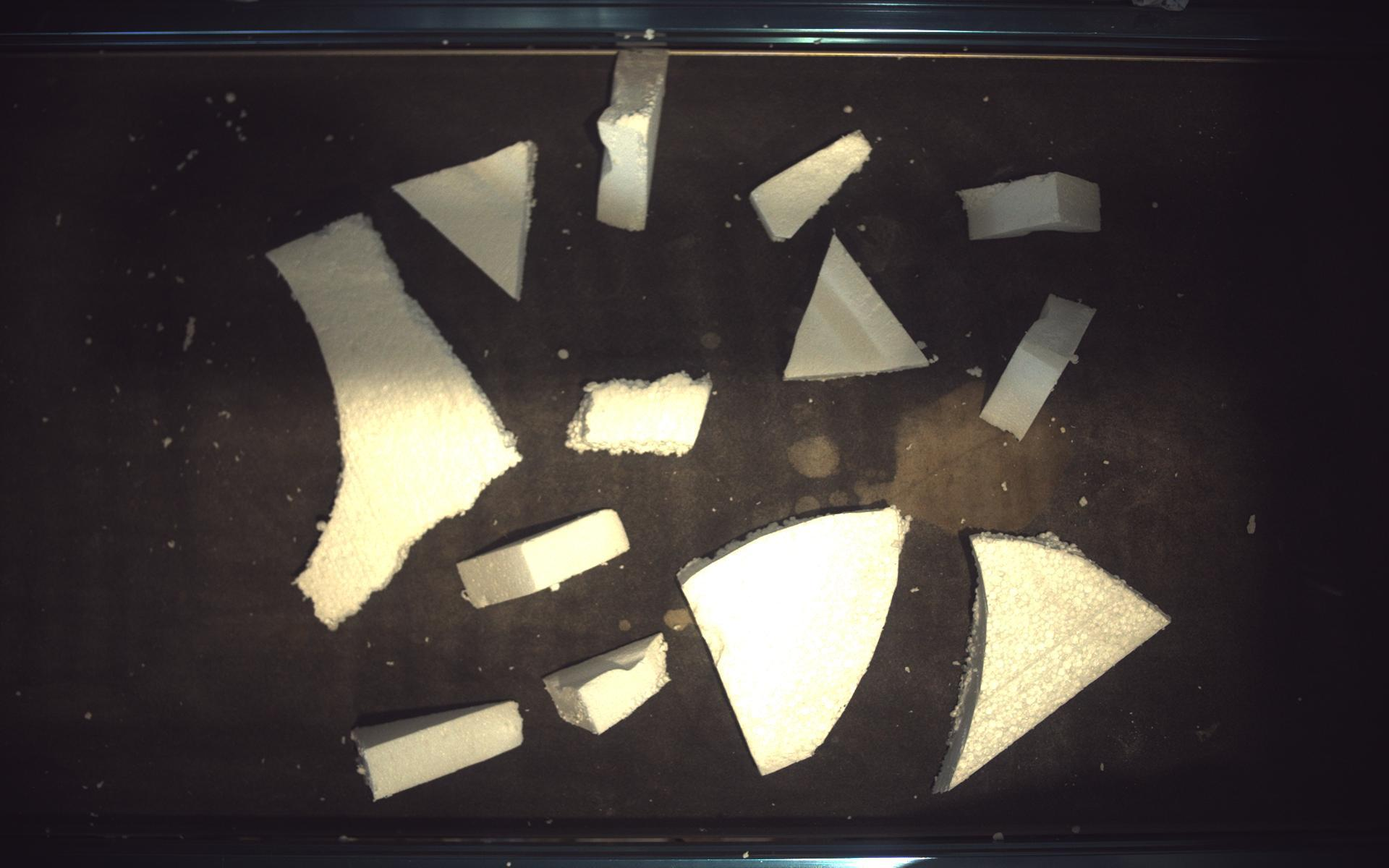foam: (268, 213, 522, 630), (681, 508, 912, 776), (936, 532, 1173, 793), (392, 140, 538, 300), (786, 234, 931, 380), (457, 509, 631, 608), (351, 702, 523, 801), (982, 294, 1099, 439), (750, 129, 873, 241), (598, 48, 669, 230), (545, 634, 671, 736), (566, 371, 713, 456), (960, 171, 1103, 239)
